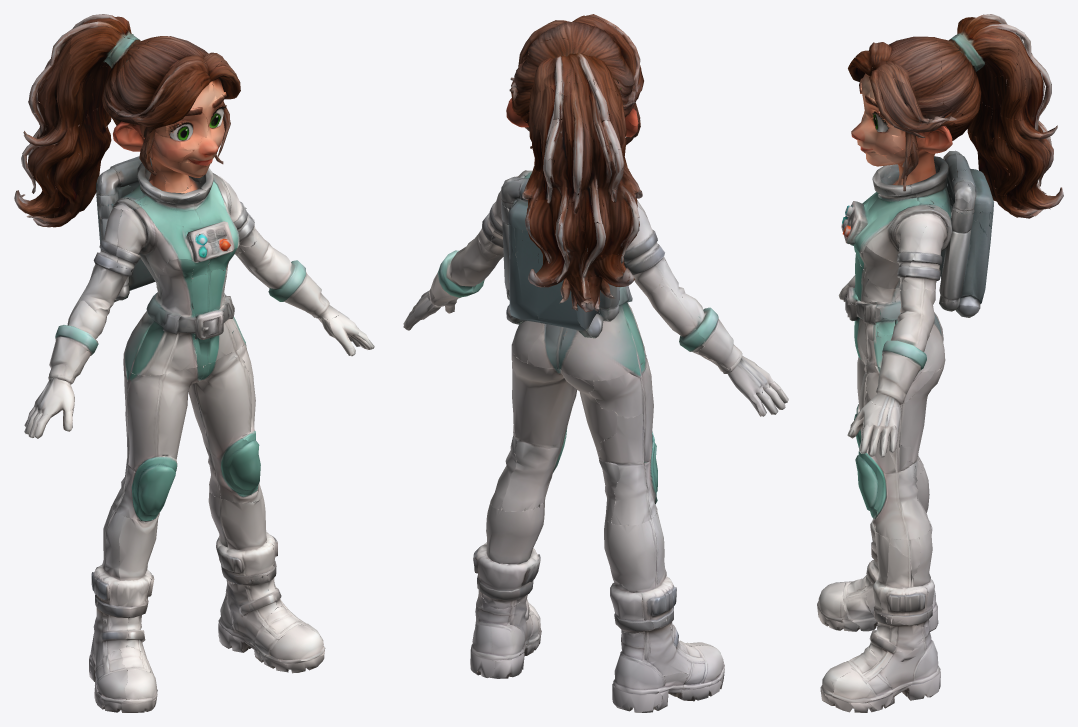
Rendered from abi_moon.fbx.
3 views of the same model, side by side, from view 1: azimuth 30°, elevation 25°; view 2: azimuth 150°, elevation 25°; view 3: azimuth 270°, elevation 25° (orthographic). The views are drawn at different scales.
Visible parts, largest first — view 1: abi_moon; view 2: abi_moon; view 3: abi_moon.
Part boxes in pixels (left/top/right/bottom): abi_moon: left=14, top=14, right=374, bottom=712; abi_moon: left=403, top=14, right=788, bottom=712; abi_moon: left=817, top=14, right=1063, bottom=712.
Bounding box in the file's own units: 0.9573 × 1.65 × 0.5927.
Materials: 1 (1 with a texture image).
